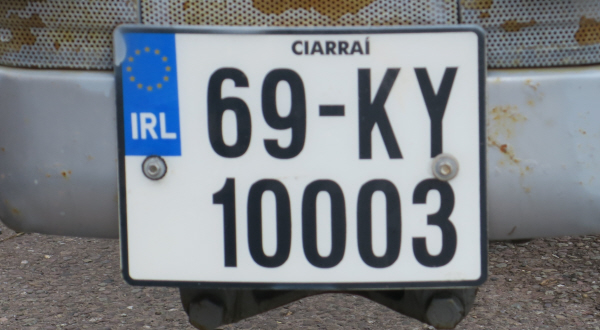license_plate: (113, 24, 487, 290)
